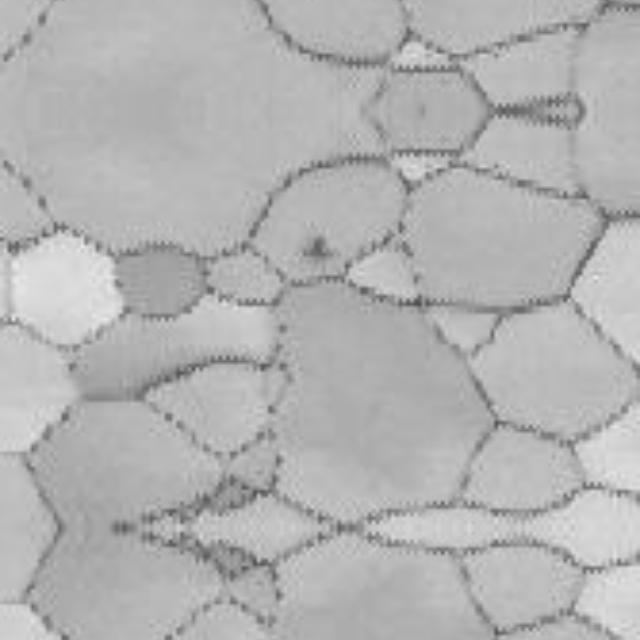good_void: (300, 235, 338, 264)
